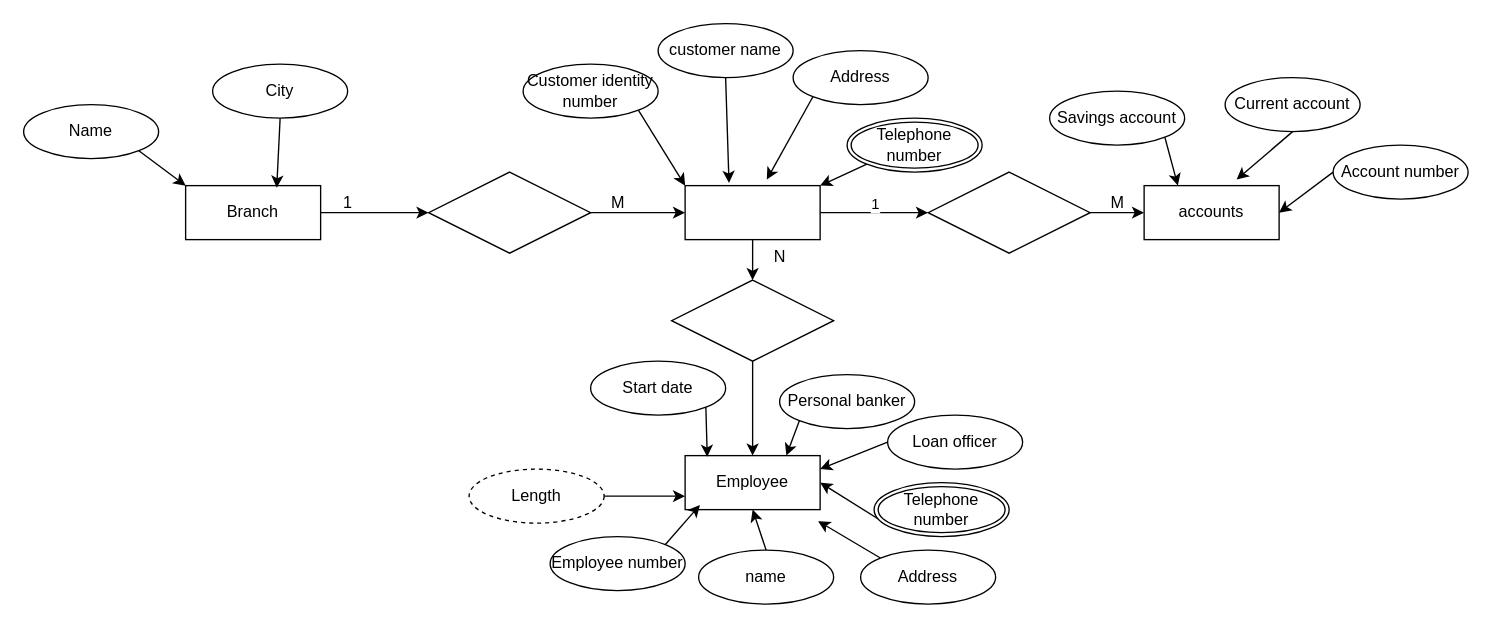
This 1492x628 diagram has some shape labels left out. Each missing label, with the box of its shape:
Associated with: (670, 279, 834, 361)
Customers: (684, 184, 820, 240)
have: (927, 171, 1090, 253)
stores: (427, 171, 591, 253)
